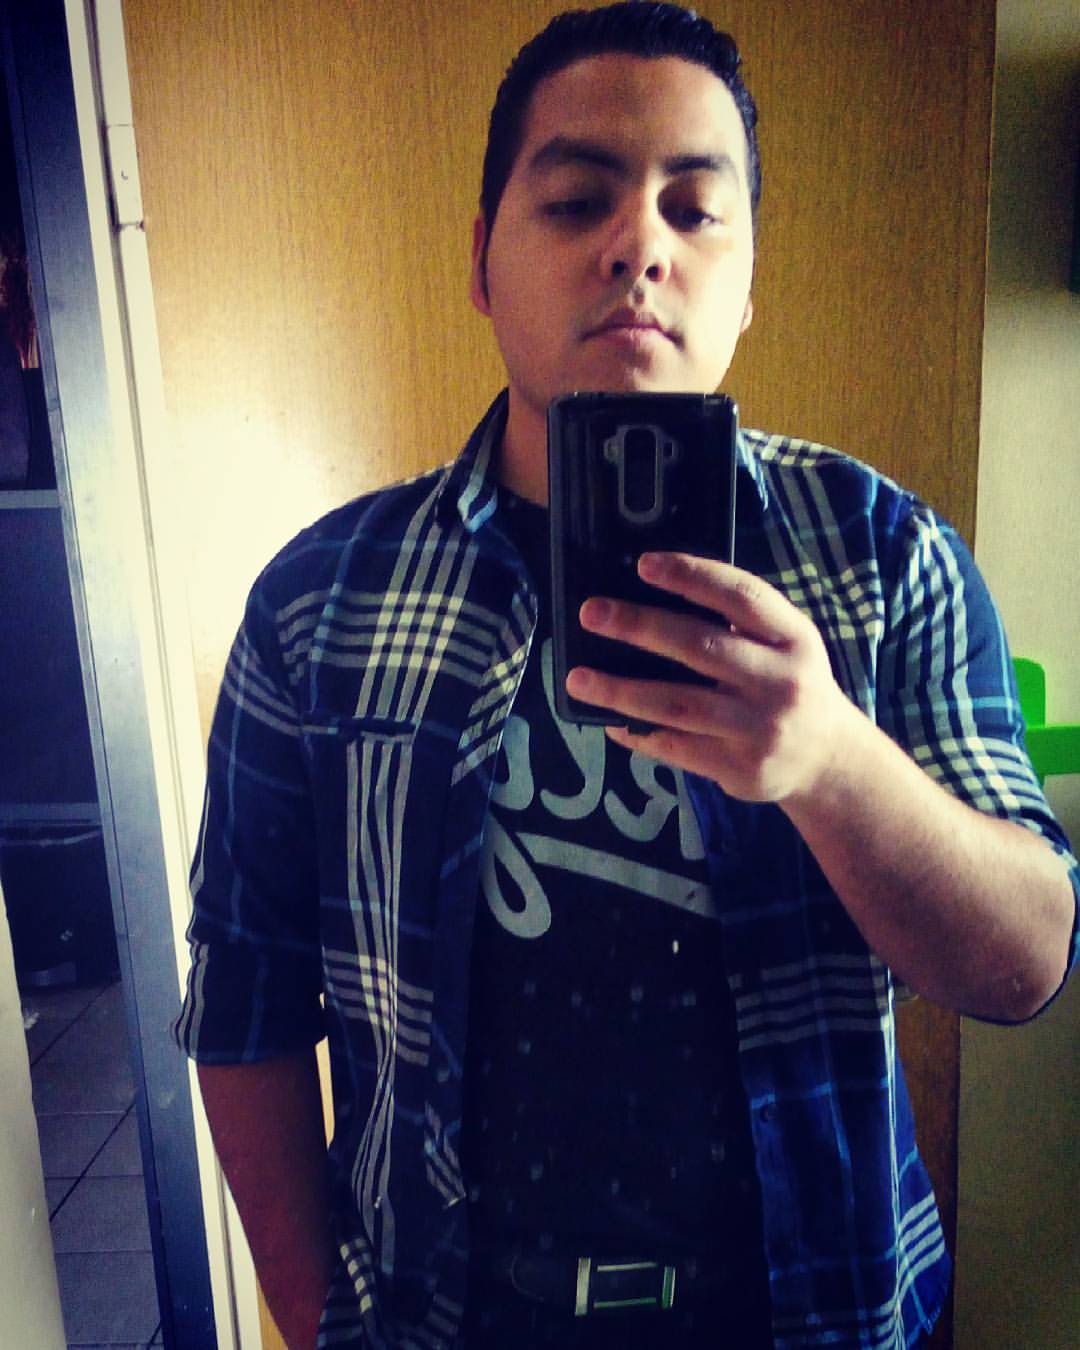Yoshi: (376, 14, 844, 464)
